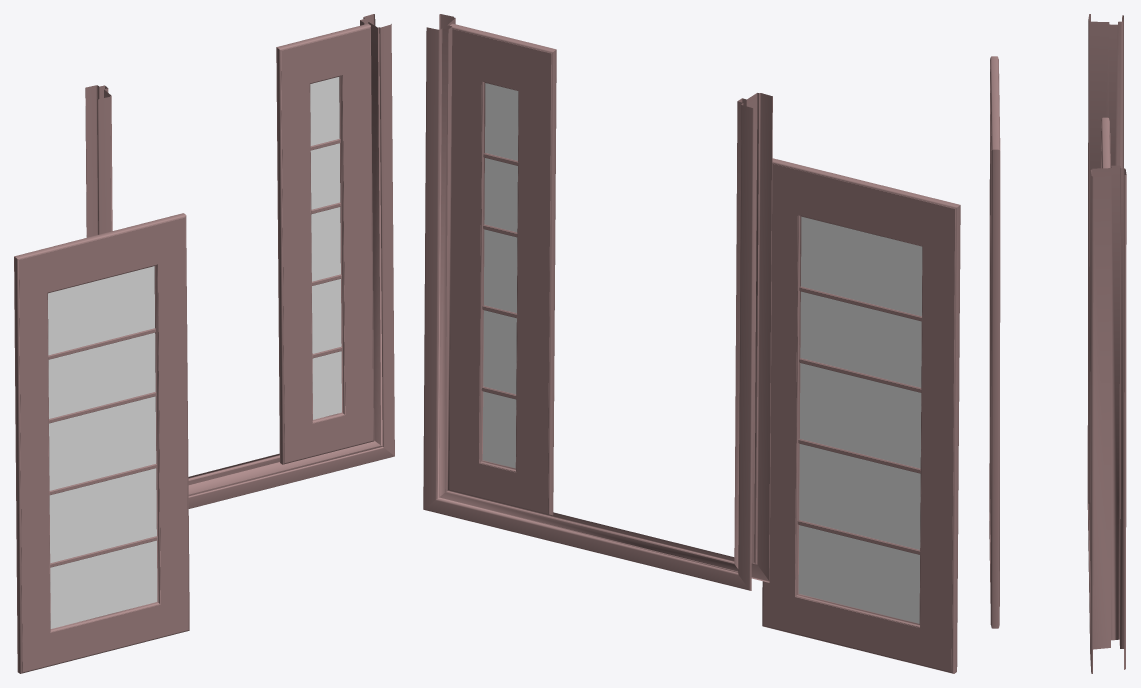
3 renders of one model, left to right at view 1: azimuth 30°, elevation 25°; view 2: azimuth 150°, elevation 25°; view 3: azimuth 270°, elevation 25°, orthographic. The views are drawn at different scales.
Visible parts, largest first — view 1: 문짝1, Panel161; view 2: 문짝1, Panel161; view 3: Panel161, 문짝1.
Boxes of the visible parts, <box> form: 문짝1: <box>14,213,189,673</box>; Panel161: <box>85,14,394,508</box>; 문짝1: <box>762,158,960,673</box>; Panel161: <box>423,14,772,590</box>; Panel161: <box>1087,14,1126,673</box>; 문짝1: <box>989,56,1000,628</box>.
Size of the model in its own units: 223 by 260 by 54.66.
